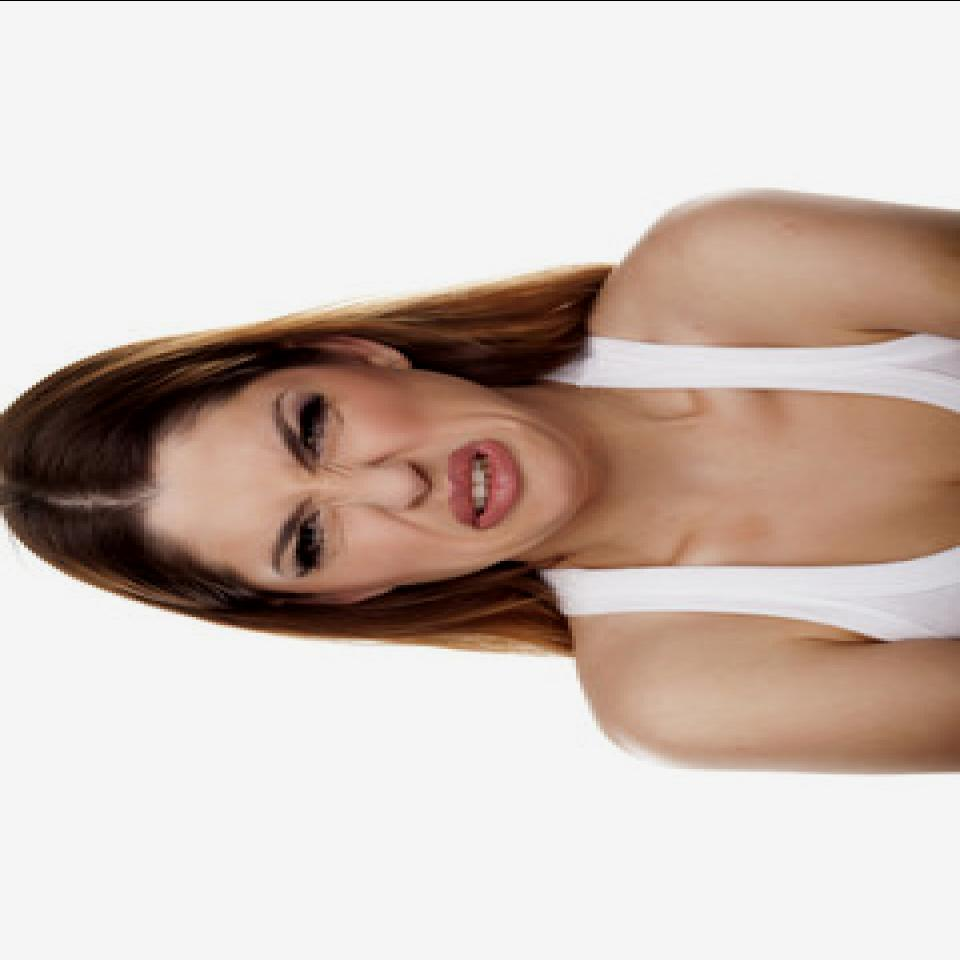Disgust: (135, 328, 605, 603)
